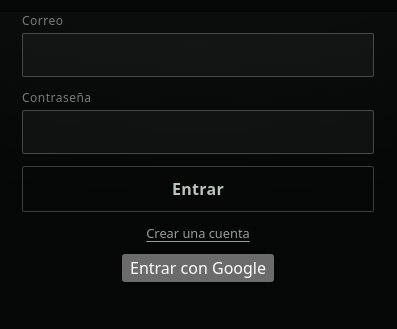
Test case: AccountPanel › enseña el mensaje del servidor cuando las credenciales no coinciden
This screenshot has width=397, height=329.
In the field labelled "Correo": (198, 55) [22,33,374,77], type "alguien@example.com"
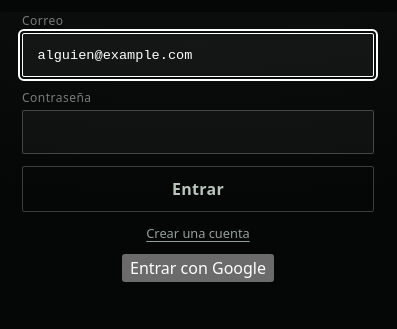
In the password field labelled "Contraseña": (198, 132) [22,110,374,154], type "contrasena-de-pruebas"
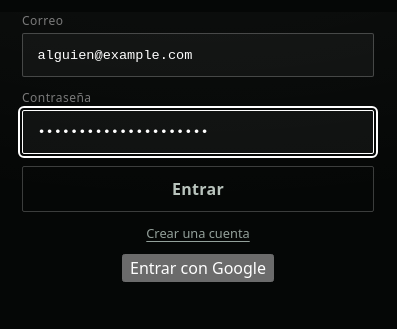
Click the button "Entrar": (198, 189) [22,166,374,212]
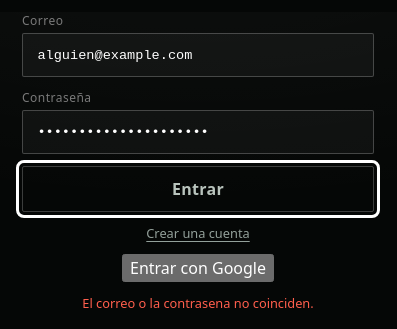
Expected: the message reads "El correo o la contrasena no coinciden.", [82,294,314,312]
